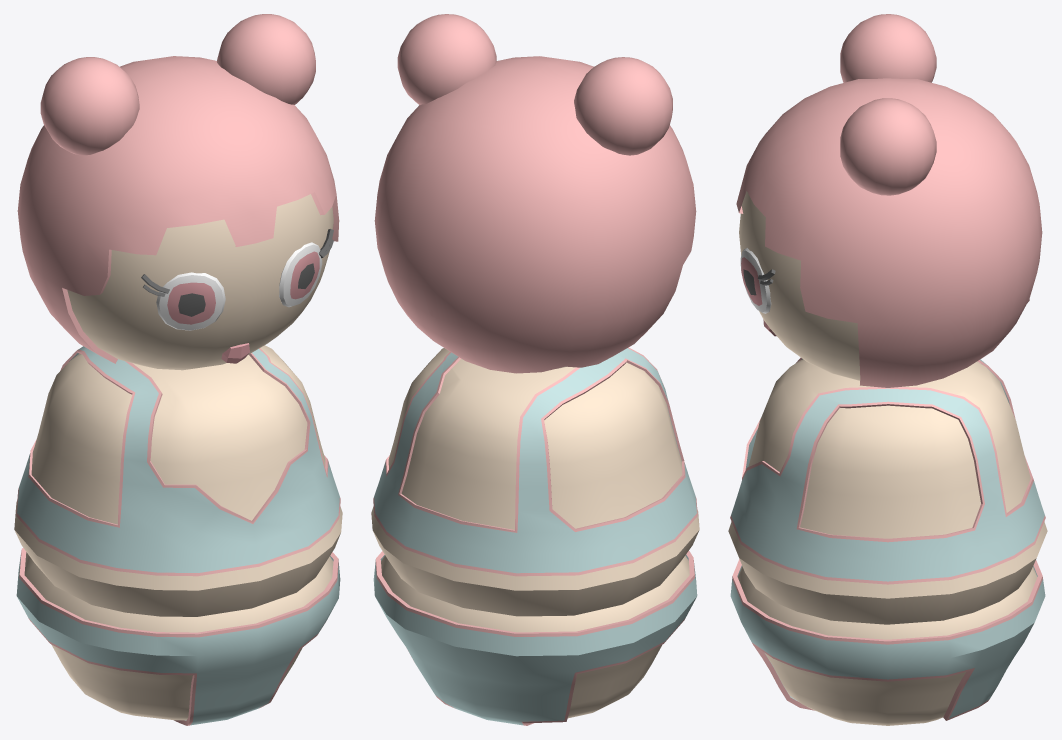
The model's file is e-girl.fbx.
3 views of the same model, side by side, from view 1: azimuth 30°, elevation 25°; view 2: azimuth 150°, elevation 25°; view 3: azimuth 270°, elevation 25° (orthographic). The views are drawn at different scales.
Visible parts, largest first — view 1: Cube.007; view 2: Cube.007; view 3: Cube.007.
Boxes of the visible parts, box(x1,y1,x2,y2) form: Cube.007: box(14, 14, 342, 725); Cube.007: box(371, 14, 699, 725); Cube.007: box(728, 14, 1047, 725).
Size of the model in its own units: 171 by 378 by 171.
